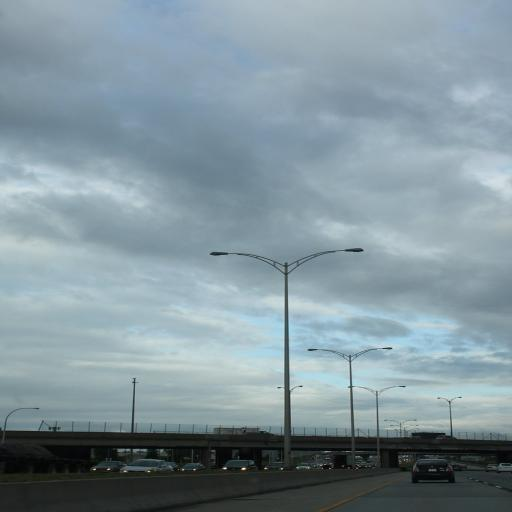off street light: (207, 239, 370, 455)
